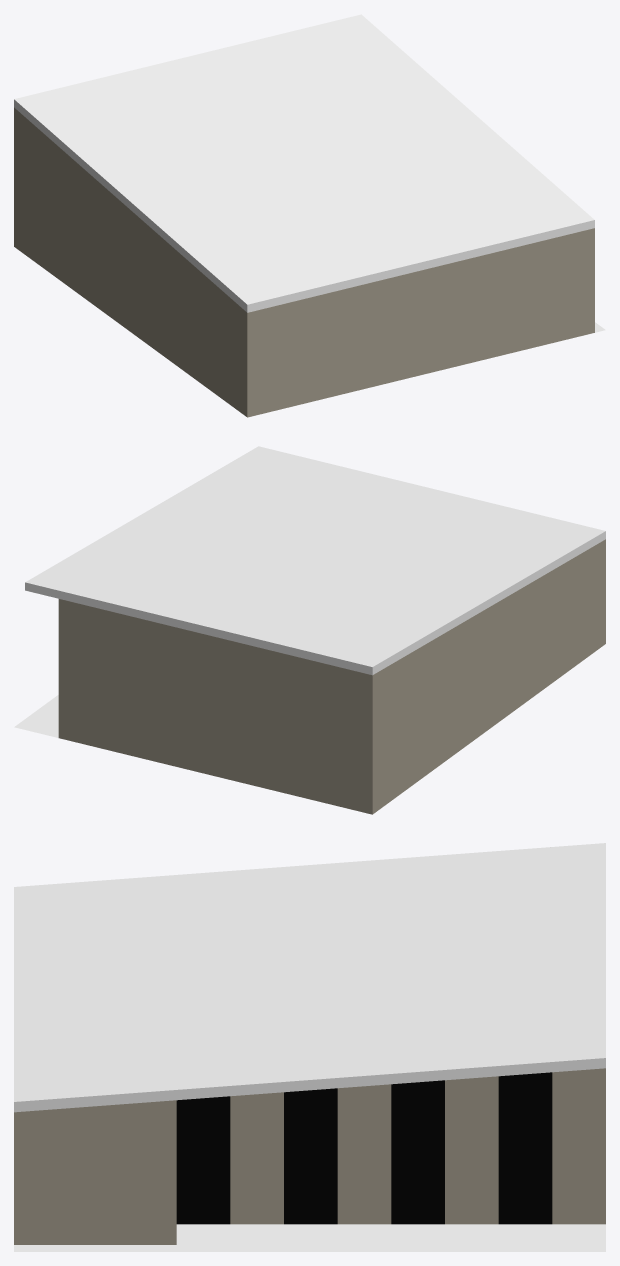
File: APBuildingC.fbx
3 renders of one model, top to bottom at view 1: azimuth 30°, elevation 25°; view 2: azimuth 150°, elevation 25°; view 3: azimuth 270°, elevation 25°, orthographic. The views are drawn at different scales.
Visible parts, largest first — view 1: APBuildingC; view 2: APBuildingC; view 3: APBuildingC.
Part boxes in pixels (left/top/right/bottom): APBuildingC: left=14, top=14, right=605, bottom=417; APBuildingC: left=14, top=446, right=605, bottom=814; APBuildingC: left=14, top=843, right=605, bottom=1251.
Bounding box in the file's own units: 3793 × 1491 × 4277.
1 material, 1 textured.
